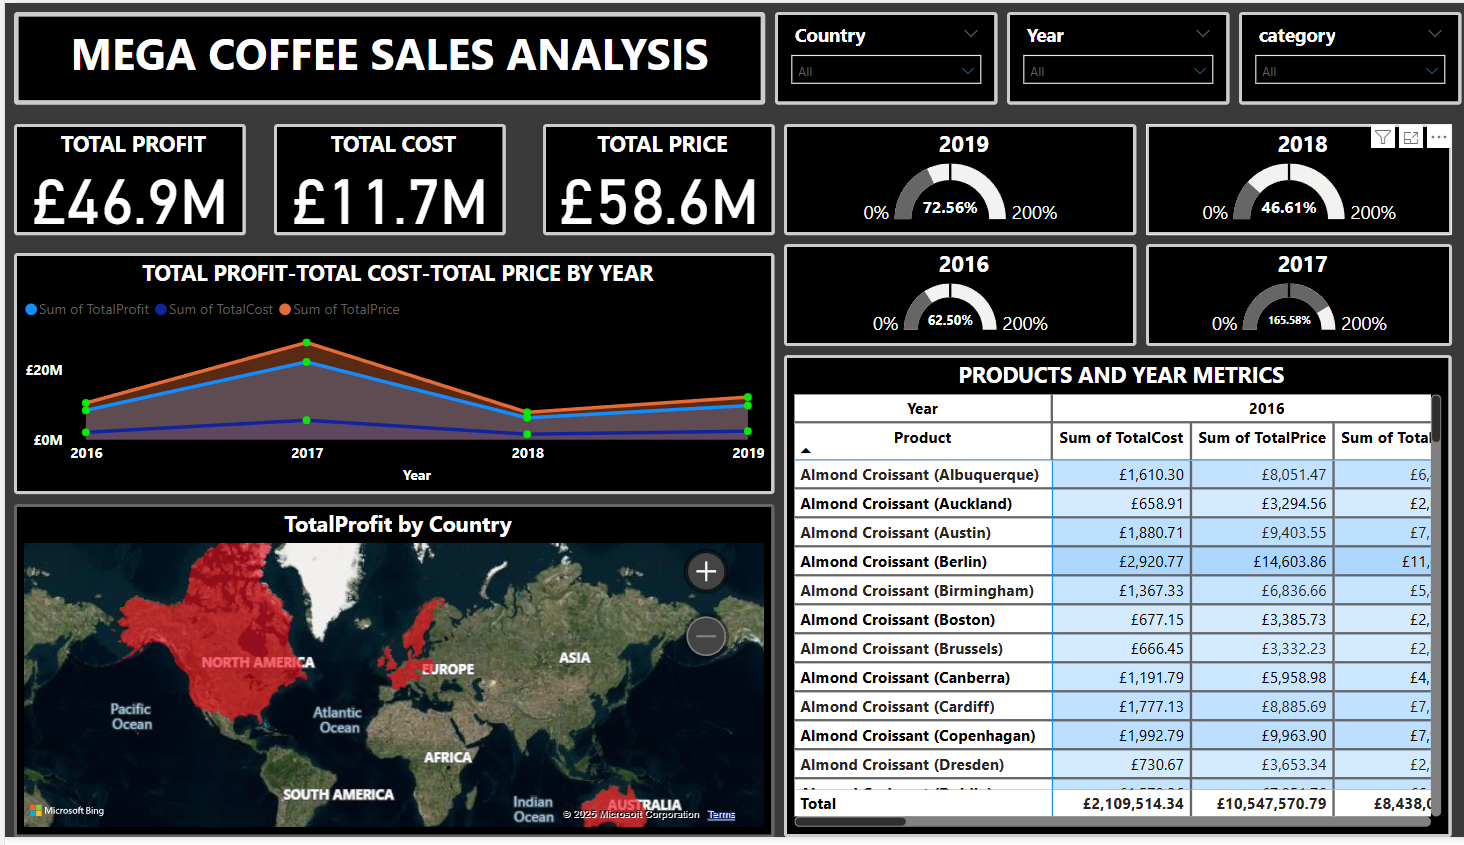

What the dashboard file says about the page in this screenshot:
{"tool":"powerbi","page":{"name":"Page 1","canvas":[1280,720],"ordinal":0},"visuals":[{"type":"textbox","box":[8,8,648,80],"z":0},{"type":"slicer","fields":{"Values":["countries.Country"]},"box":[664,8,192,80],"z":1000},{"type":"slicer","fields":{"Values":["KPI table.Year"]},"box":[864,8,192,80],"z":2000},{"type":"slicer","fields":{"Values":["sales_table.category"]},"box":[1064,8,192,80],"z":3000},{"type":"card","title":"TOTAL PROFIT","fields":{"Values":["Sum(sales_table.TotalProfit)"]},"box":[8,104,200,96],"z":4000},{"type":"card","title":"TOTAL COST","fields":{"Values":["Sum(sales_table.TotalCost)"]},"box":[232,104,200,96],"z":5000},{"type":"card","title":"TOTAL PRICE","fields":{"Values":["Sum(sales_table.TotalPrice)"]},"box":[464,104,200,96],"z":6000},{"type":"gauge","title":"2016","fields":{"MaxValue":["Sum(KPI table.Max KPI(%))"],"MinValue":["Sum(KPI table.Min KPI(%))"],"Y":["Sum(KPI table.Actual KPI(%))"],"TargetValue":["CountNonNull(KPI table.Target KPI(%))"]},"box":[672,208,304,88],"z":7000},{"type":"gauge","title":"2017","fields":{"MaxValue":["Sum(KPI table.Max KPI(%))"],"MinValue":["Sum(KPI table.Min KPI(%))"],"Y":["Sum(KPI table.Actual KPI(%))"],"TargetValue":["CountNonNull(KPI table.Target KPI(%))"]},"box":[984,208,264,88],"z":8000},{"type":"gauge","title":"2018","fields":{"MaxValue":["Sum(KPI table.Max KPI(%))"],"MinValue":["Sum(KPI table.Min KPI(%))"],"Y":["Sum(KPI table.Actual KPI(%))"],"TargetValue":["CountNonNull(KPI table.Target KPI(%))"]},"box":[984,104,264,96],"z":9000},{"type":"gauge","title":"2019","fields":{"MaxValue":["Sum(KPI table.Max KPI(%))"],"MinValue":["Sum(KPI table.Min KPI(%))"],"Y":["Sum(KPI table.Actual KPI(%))"],"TargetValue":["CountNonNull(KPI table.Target KPI(%))"]},"box":[672,104,304,96],"z":10000},{"type":"areaChart","title":"TOTAL PROFIT-TOTAL COST-TOTAL PRICE BY YEAR","fields":{"Category":["sales_table.Year"],"Y":["Sum(sales_table.TotalProfit)","Sum(sales_table.TotalCost)","Sum(sales_table.TotalPrice)"]},"box":[8,216,656,208],"z":11000},{"type":"pivotTable","title":"PRODUCTS AND YEAR METRICS","fields":{"Columns":["sales_table.Year"],"Rows":["sales_table.Product"],"Values":["Sum(sales_table.TotalCost)","Sum(sales_table.TotalPrice)","Sum(sales_table.TotalProfit)"]},"box":[672,304,576,416],"z":12000},{"type":"filledMap","title":"TotalProfit by Country","fields":{"Category":["countries.Country"]},"box":[8,432,656,288],"z":12001}]}

Visuals, with their boxes in screenshot pixels (x1, y1, x2, y2), scaled from the page's 1280x720 canvas onto the 1464x845 screenshot:
textbox: x1=9 y1=9 x2=750 y2=103
slicer - countries.Country: x1=759 y1=9 x2=979 y2=103
slicer - KPI table.Year: x1=988 y1=9 x2=1208 y2=103
slicer - sales_table.category: x1=1217 y1=9 x2=1437 y2=103
"TOTAL PROFIT" card: x1=9 y1=122 x2=238 y2=235
"TOTAL COST" card: x1=265 y1=122 x2=494 y2=235
"TOTAL PRICE" card: x1=531 y1=122 x2=759 y2=235
"2016" gauge: x1=769 y1=244 x2=1116 y2=347
"2017" gauge: x1=1125 y1=244 x2=1427 y2=347
"2018" gauge: x1=1125 y1=122 x2=1427 y2=235
"2019" gauge: x1=769 y1=122 x2=1116 y2=235
"TOTAL PROFIT-TOTAL COST-TOTAL PRICE BY YEAR" areaChart: x1=9 y1=254 x2=759 y2=498
"PRODUCTS AND YEAR METRICS" pivotTable: x1=769 y1=357 x2=1427 y2=844
"TotalProfit by Country" filledMap: x1=9 y1=507 x2=759 y2=844
